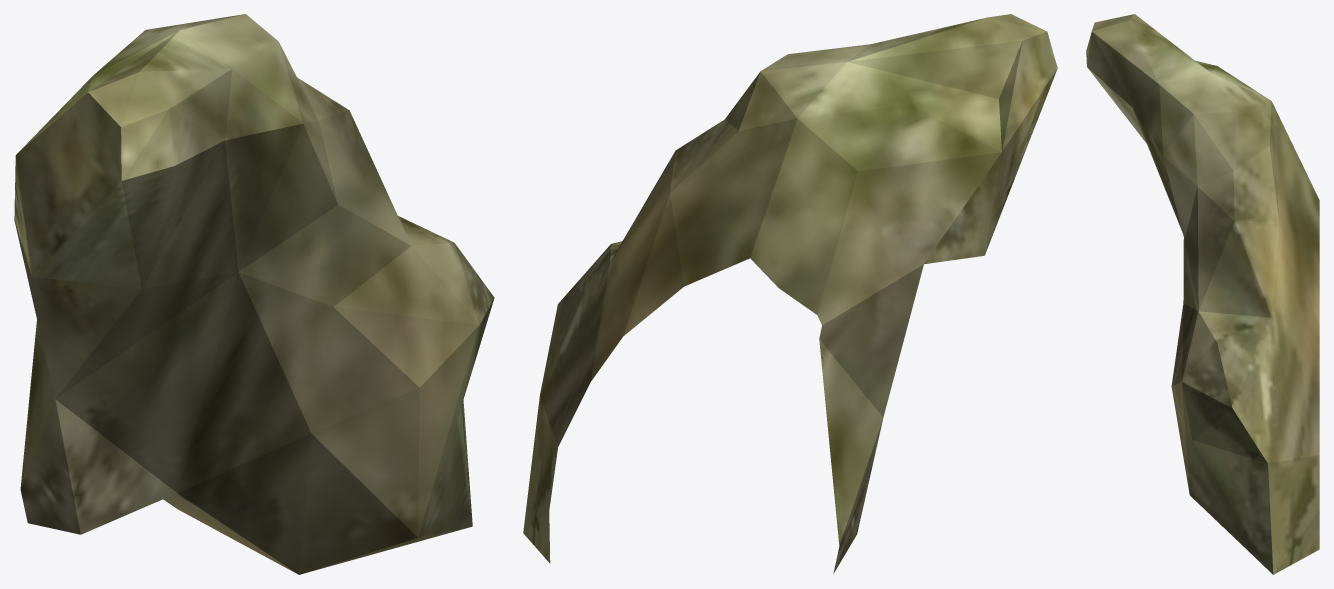
3 renders of one model, left to right at view 1: azimuth 30°, elevation 25°; view 2: azimuth 150°, elevation 25°; view 3: azimuth 270°, elevation 25°, orthographic. The views are drawn at different scales.
Bounding box in the file's own units: 0.8303 × 0.993 × 0.5066.
Materials: 1 (1 with a texture image).
